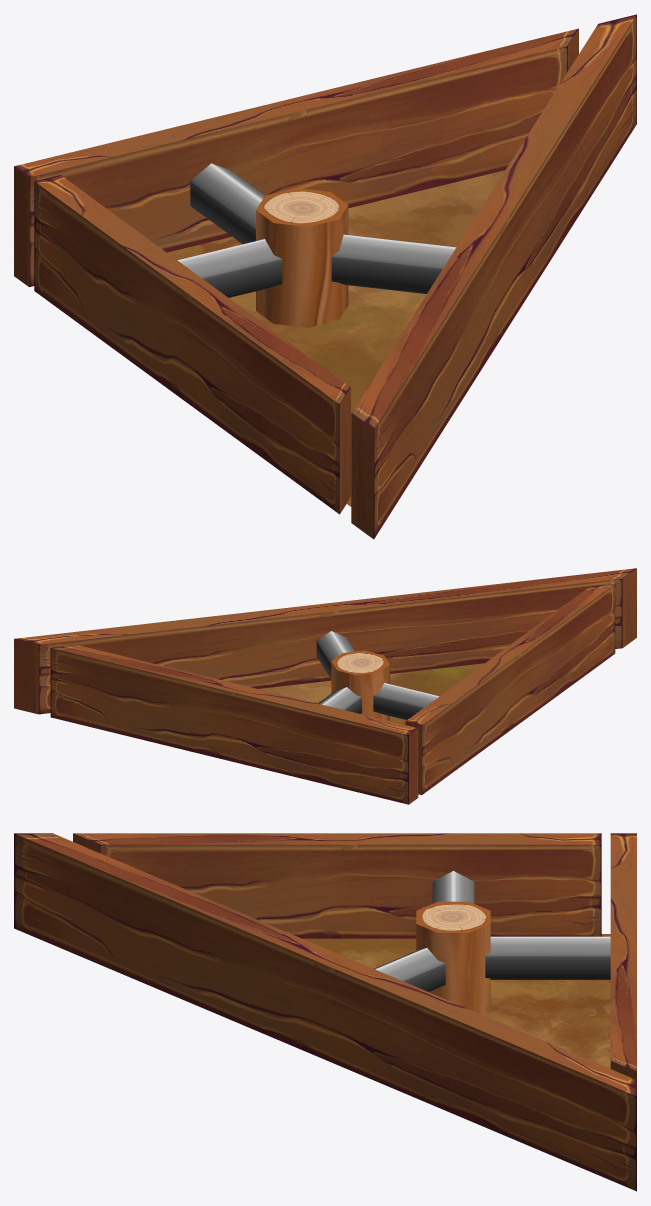
File: triangle_wood_04.fbx
3 renders of one model, top to bottom at view 1: azimuth 30°, elevation 25°; view 2: azimuth 150°, elevation 25°; view 3: azimuth 270°, elevation 25°, orthographic. The views are drawn at different scales.
Visible parts, largest first — view 1: triangle_wood_04; view 2: triangle_wood_04; view 3: triangle_wood_04.
Boxes of the visible parts, box(x1,y1,x2,y2) form: triangle_wood_04: box(14, 14, 636, 539); triangle_wood_04: box(14, 568, 636, 804); triangle_wood_04: box(14, 833, 636, 1191).
Bounding box in the file's own units: 238 × 40 × 238.
